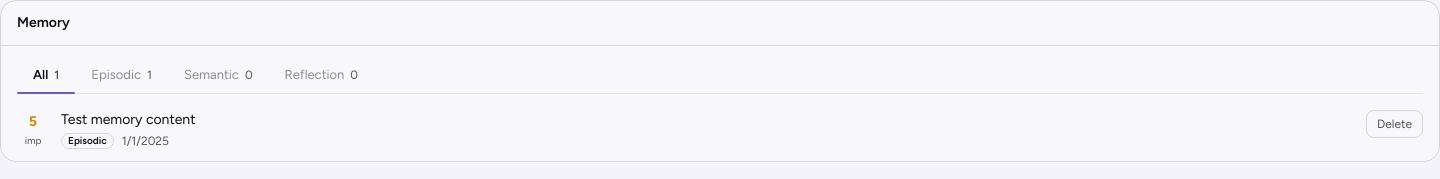
Test: AgentMemoryBrowser › shows Confirm on first Delete click
Click the button "Delete".
click(1394, 124)  # box left=1366, top=110, right=1423, bottom=138
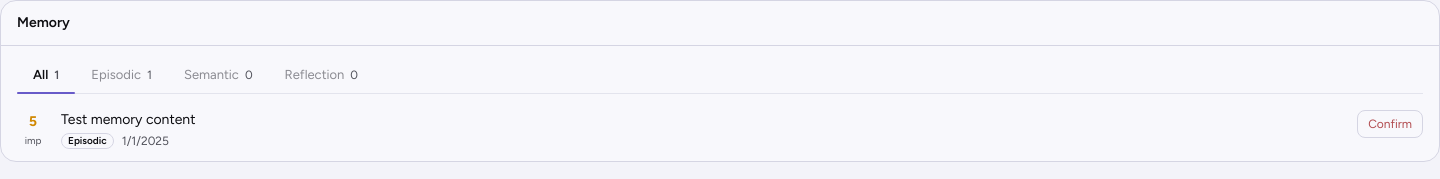
Now the button "Confirm" is shown, box left=1357, top=110, right=1423, bottom=138
